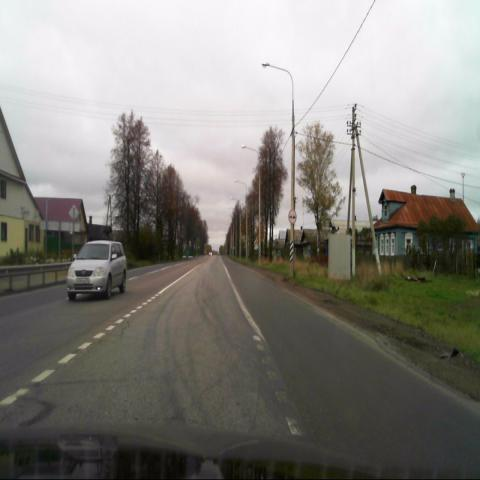3_20: (288, 209, 297, 224)
